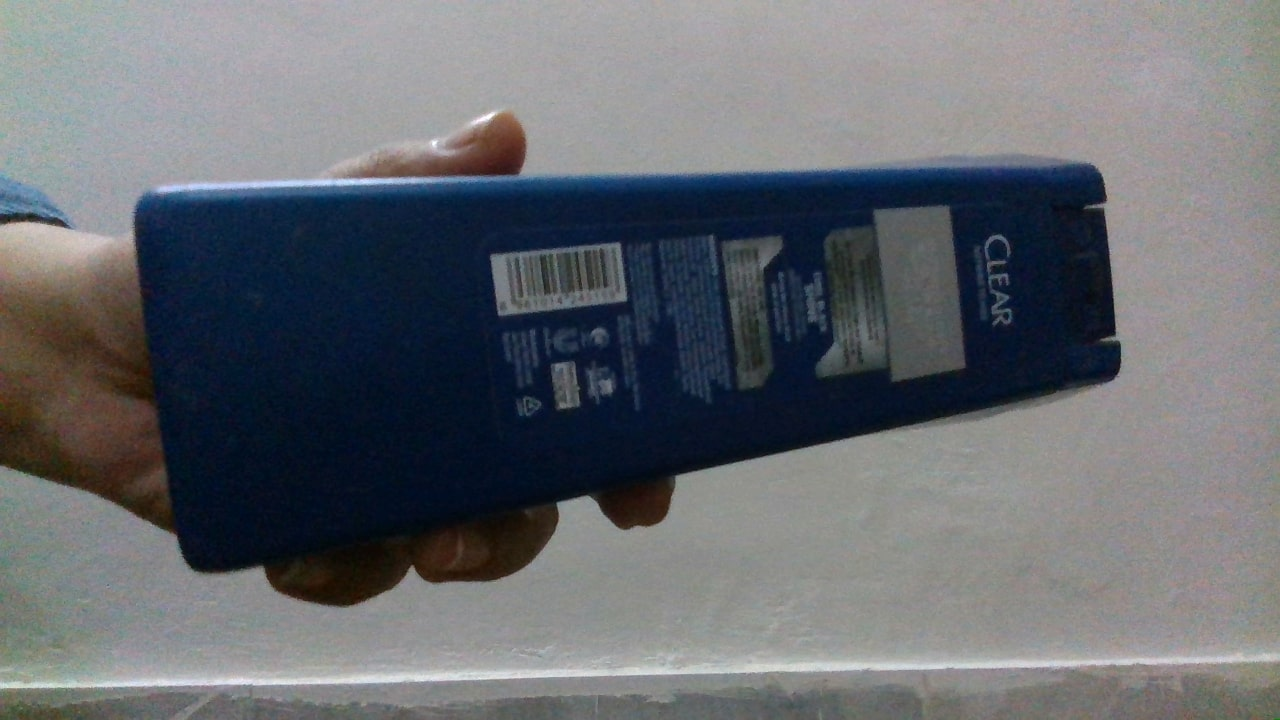Barcode: (504, 245, 624, 310)
